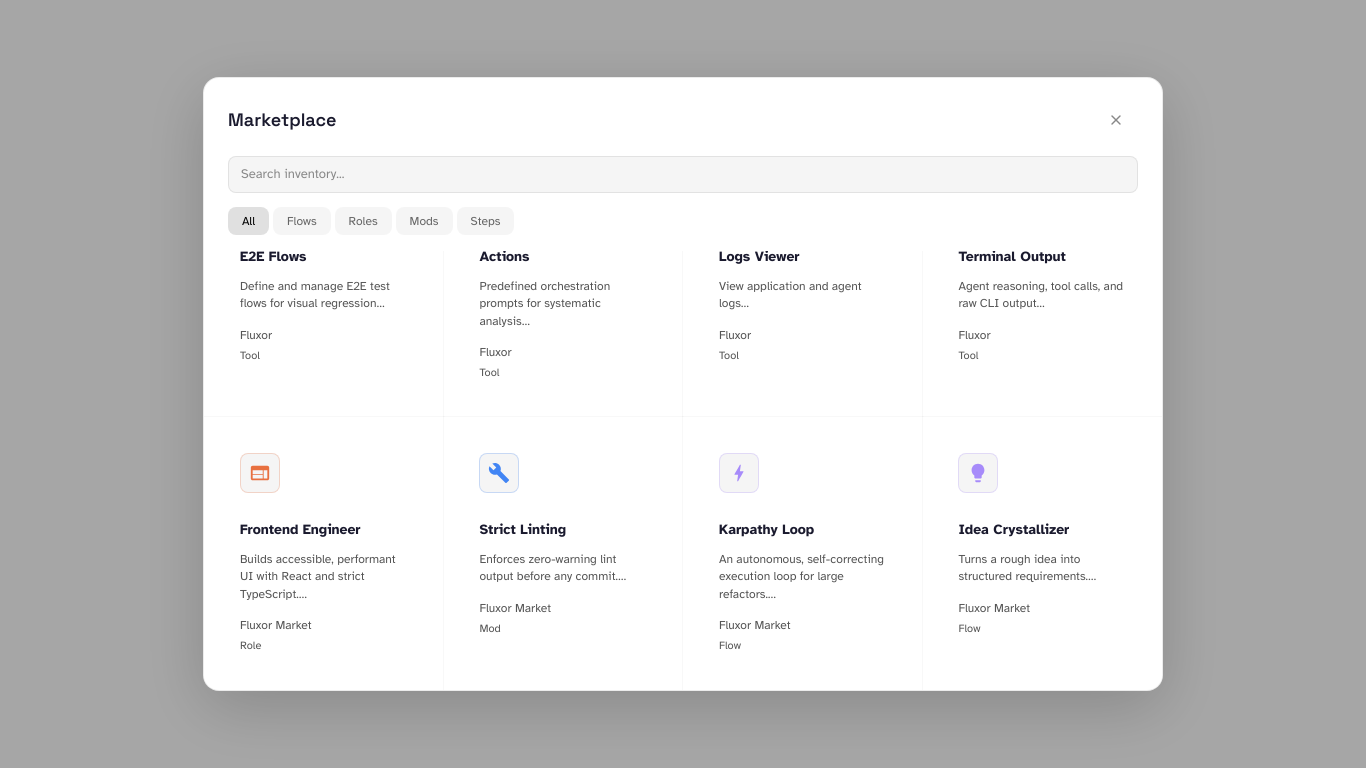
Test: MarketplaceApp — card click opens the product sheet › clicking a card opens the sheet instead of deploying
This screenshot has width=1366, height=768.
(page scrolled)
Click the button with aria-label "View details for Frontend Engineer — Role by Fluxor Market".
click(324, 554)  # box [204,417,444,690]
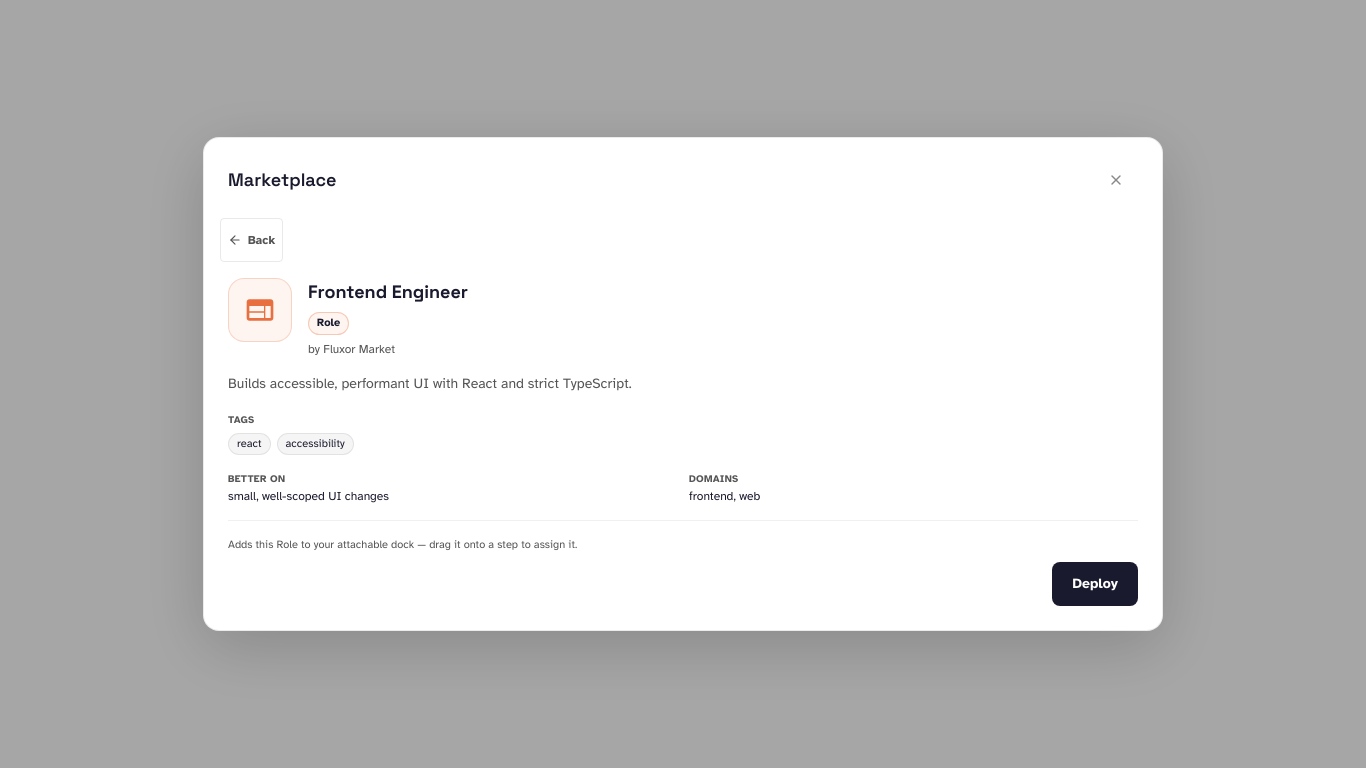
Expected: the text "Builds accessible, performant UI with React and strict TypeScript." is shown, [228,375,632,392]
Expected: the element with test id "plugin-sheet" is shown, [204,218,1162,630]
